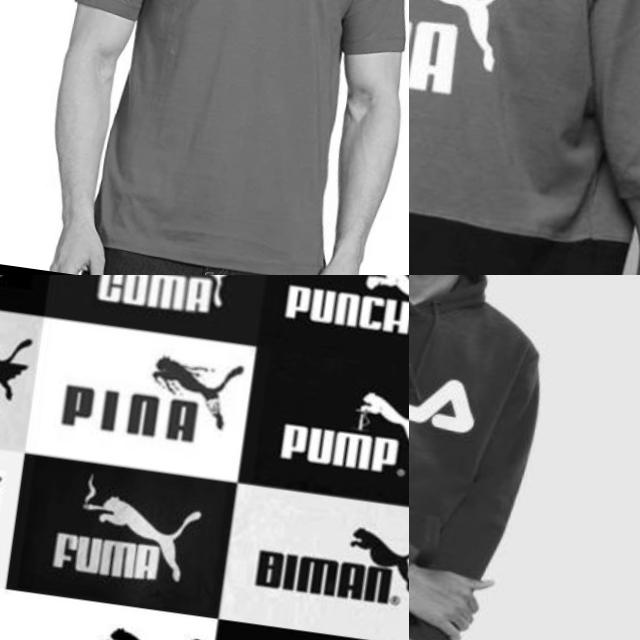FILA_original: (409, 306, 499, 456)
PUMA_fake: (35, 466, 228, 598), (52, 334, 247, 460), (257, 367, 409, 495), (241, 503, 409, 618), (277, 275, 409, 350), (71, 275, 256, 323), (1, 607, 213, 640), (0, 302, 48, 434)
PUMA_original: (409, 0, 547, 131)
